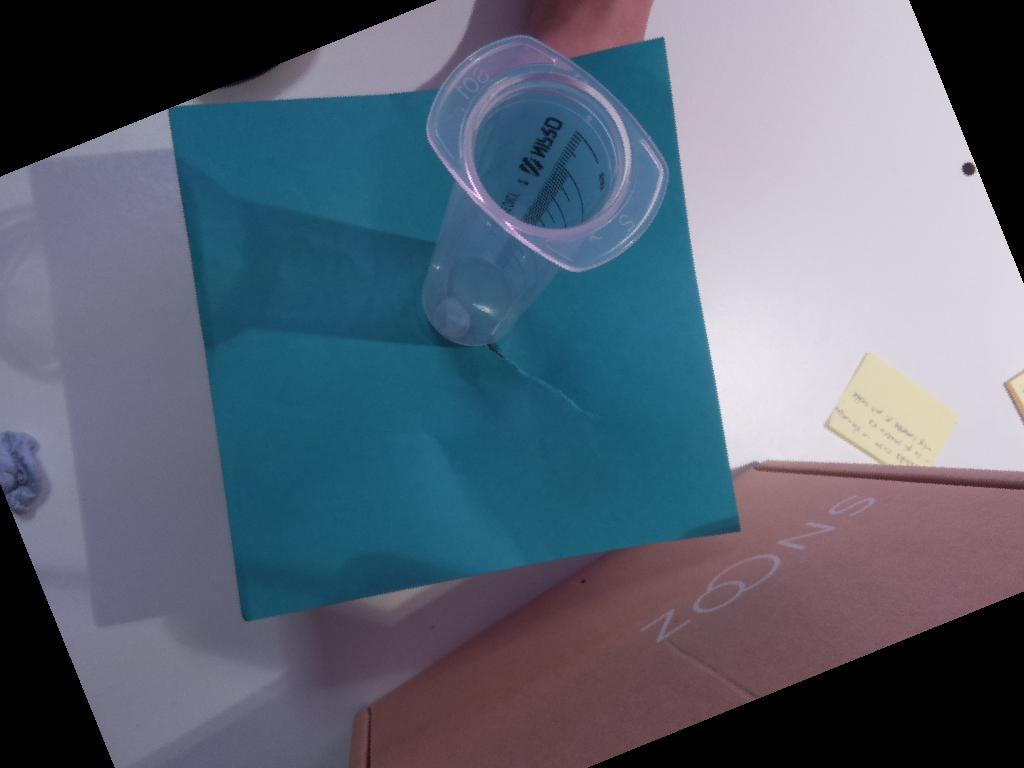clean: (426, 35, 670, 271)
